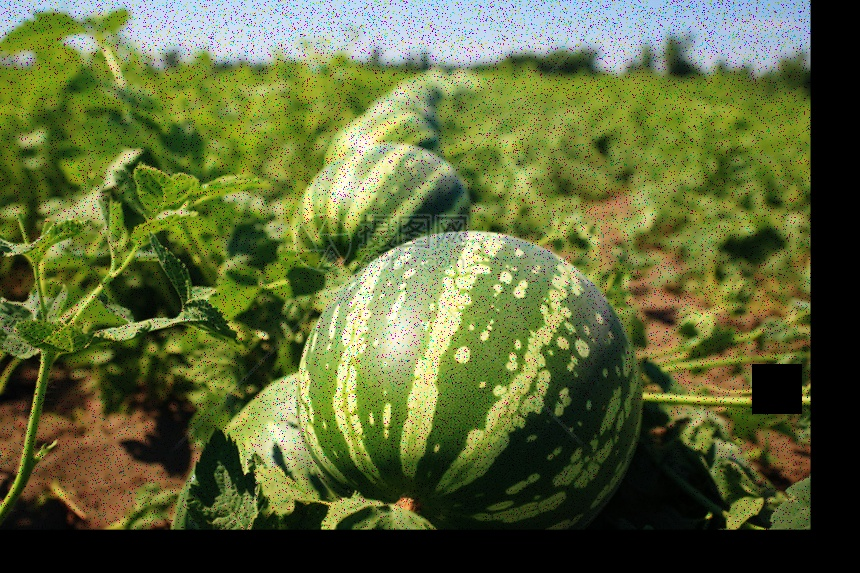watermelon: (297, 234, 639, 519), (293, 140, 471, 267)
